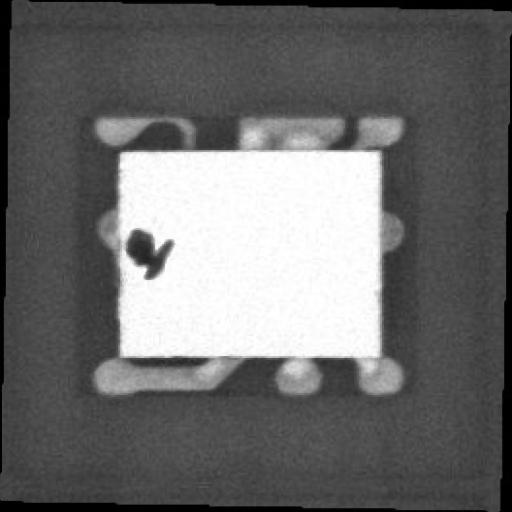DIE_INK: (117, 235, 165, 289)
